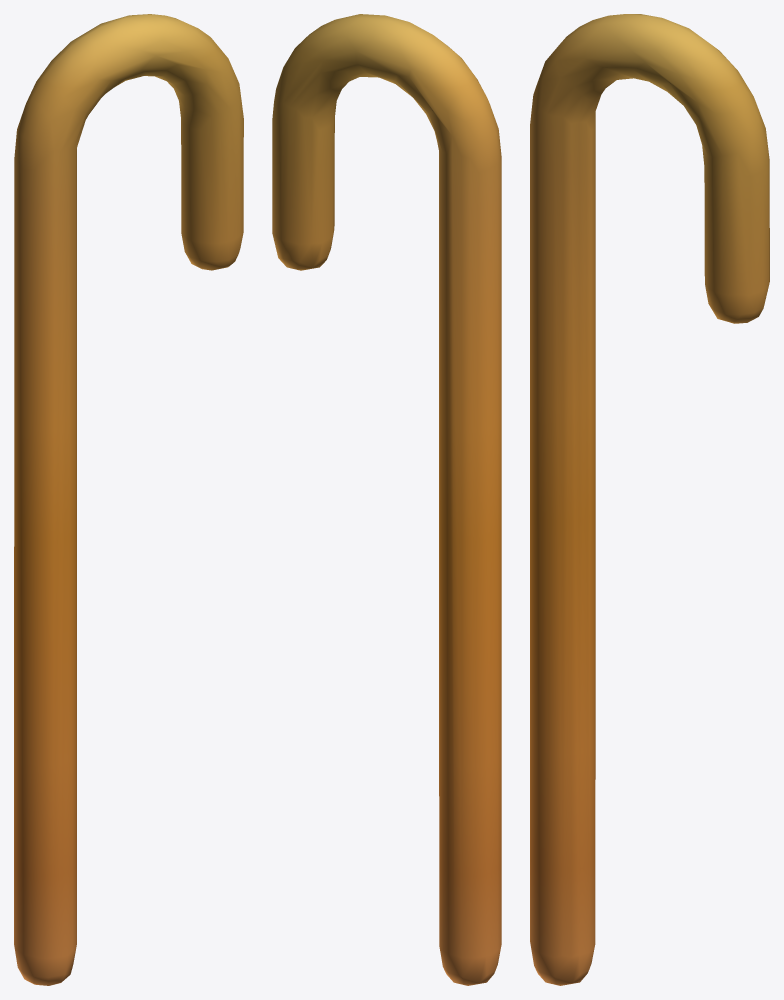
The model's file is Candy.glb.
The picture shows the model from 3 angles, left to right: view 1: azimuth 30°, elevation 25°; view 2: azimuth 150°, elevation 25°; view 3: azimuth 330°, elevation 25°; orthographic projection. The views are drawn at different scales.
Parts seen in each view (by area): view 1: candyCane; view 2: candyCane; view 3: candyCane.
Part boxes in pixels (x1,y1,x2,y2): candyCane: [14, 14, 243, 985]; candyCane: [272, 14, 501, 985]; candyCane: [530, 14, 769, 985].
Size of what is drawn, in the model's own units: 0.4495 by 1.83 by 0.1106.
Materials: 1 (1 with a texture image).
